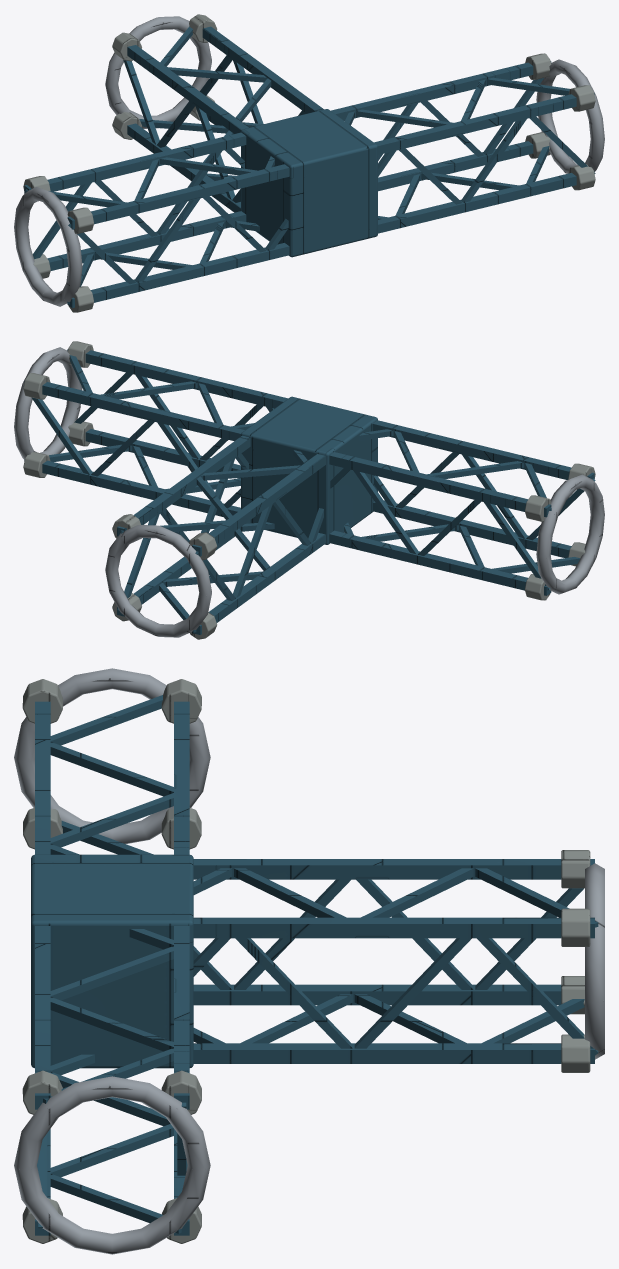
The model's file is truss_tee_lod0.glb.
The picture shows the model from 3 angles, top to bottom: view 1: azimuth 30°, elevation 25°; view 2: azimuth 150°, elevation 25°; view 3: azimuth 270°, elevation 25°; orthographic projection. The views are drawn at different scales.
Parts seen in each view (by area): view 1: LOD0_Armor, LOD0_BrushedMetal, LOD0_Hull; view 2: LOD0_Armor, LOD0_BrushedMetal, LOD0_Hull; view 3: LOD0_Armor, LOD0_BrushedMetal, LOD0_Hull.
Boxes of the visible parts, x1=… form: LOD0_Armor: x1=24, y1=26, x2=595, y2=307; LOD0_BrushedMetal: x1=14, y1=16, x2=604, y2=306; LOD0_Hull: x1=23, y1=14, x2=595, y2=312; LOD0_Armor: x1=24, y1=349, x2=595, y2=634; LOD0_BrushedMetal: x1=14, y1=347, x2=604, y2=637; LOD0_Hull: x1=23, y1=341, x2=595, y2=639; LOD0_Armor: x1=31, y1=695, x2=598, y2=1235; LOD0_BrushedMetal: x1=14, y1=668, x2=604, y2=1254; LOD0_Hull: x1=22, y1=679, x2=590, y2=1243.
Bounding box in the file's own units: 8.16 × 1.63 × 4.9.
3 materials, 3 textured.
